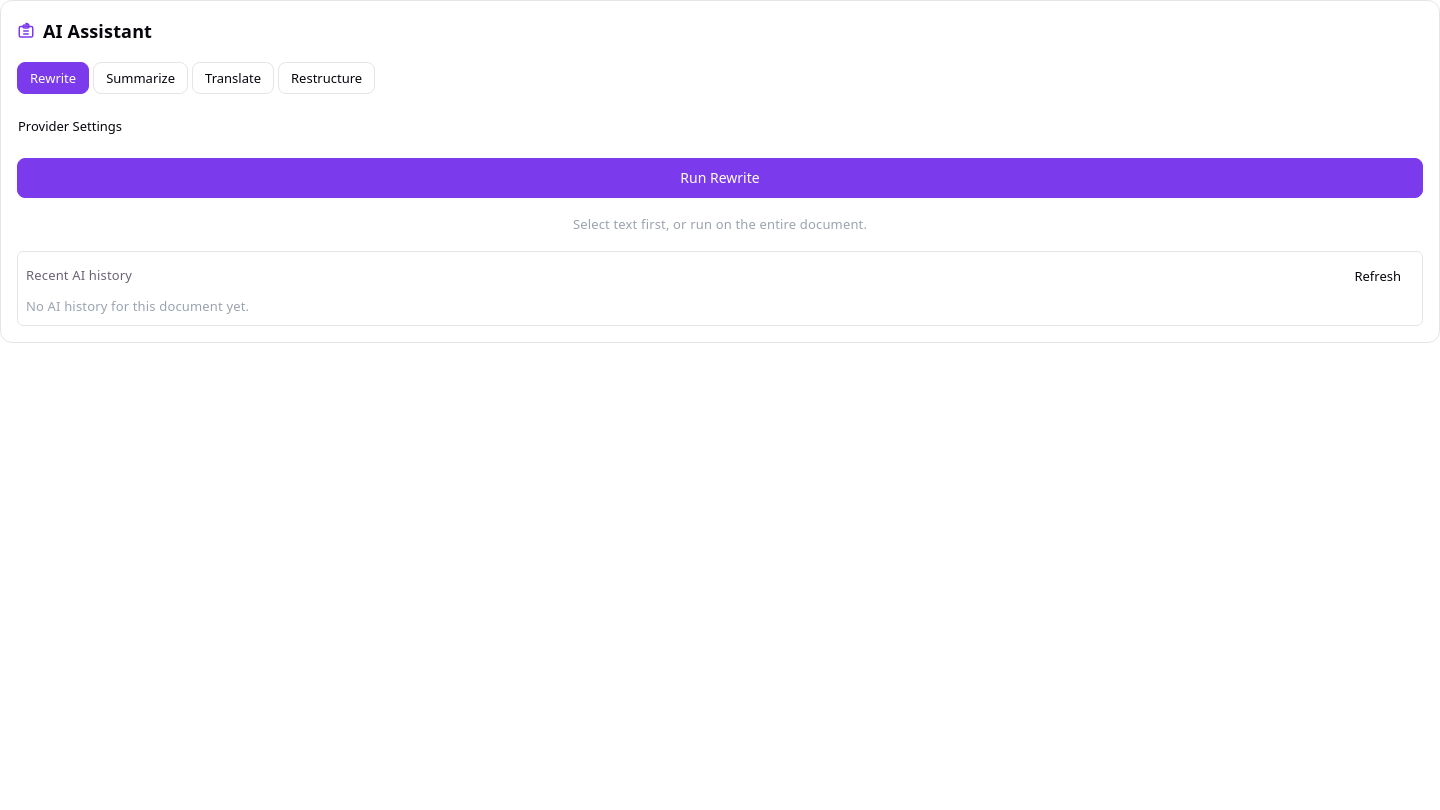
Test: AIPanel › renders streamed suggestion content and Diff tab by default after completion
Click the button "Run Rewrite".
click(720, 178)  # box [17,158,1423,198]
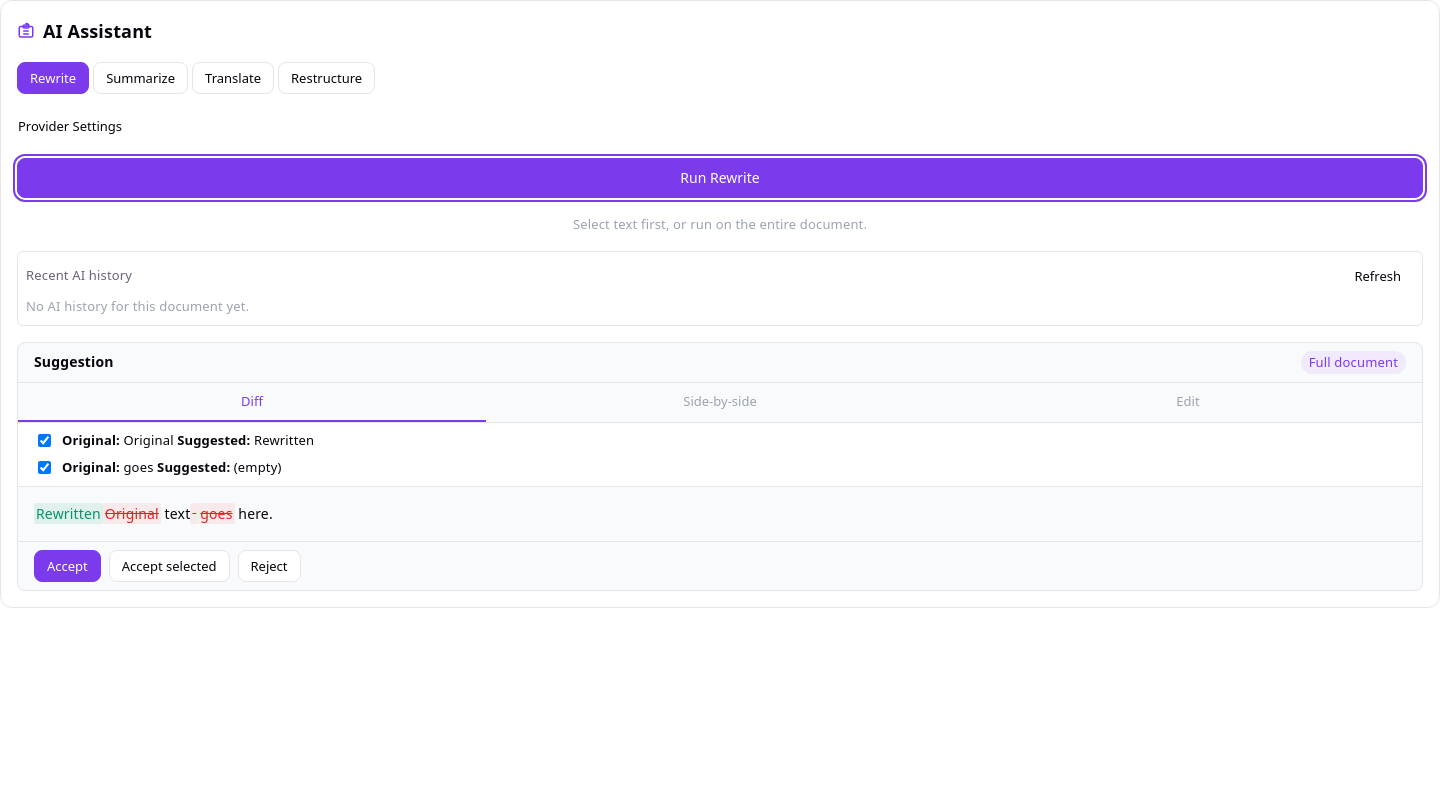
Result: the heading "Suggestion" is shown at [34,351,114,374]
Result: the text "Rewritten" is shown at [34,503,103,524]
Result: the text "Original" is shown at [103,503,161,524]
